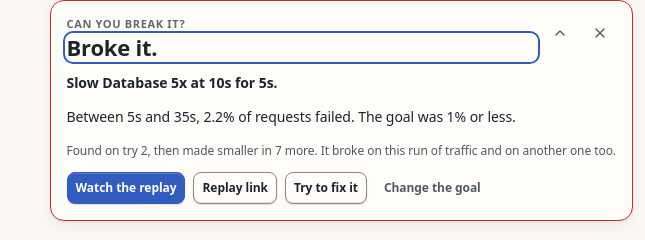
BreakPanel › folds to the break and remembers it when asked to fix it
Click the button "Try to fix it" at (326, 188), box [285,172,367,204]
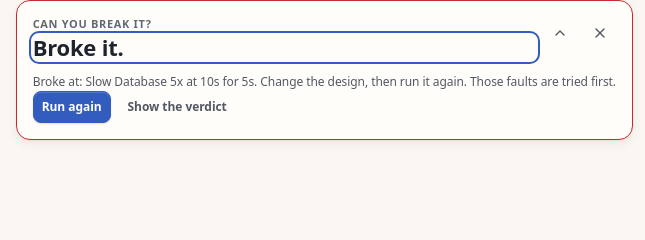
Expected: the text "Broke at: Slow Database 5x" is shown, [33,72,616,91]
Expected: the text "Run again" is shown, [33,91,111,123]
